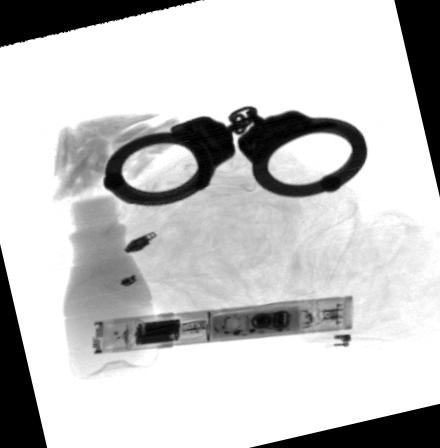Baton: (90, 292, 353, 356)
HandCuffs: (99, 103, 368, 207)
